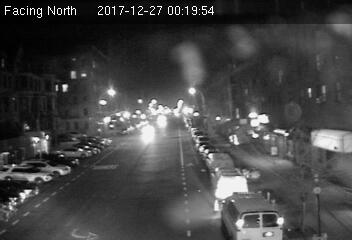truck: (220, 191, 285, 239), (212, 167, 248, 201)
